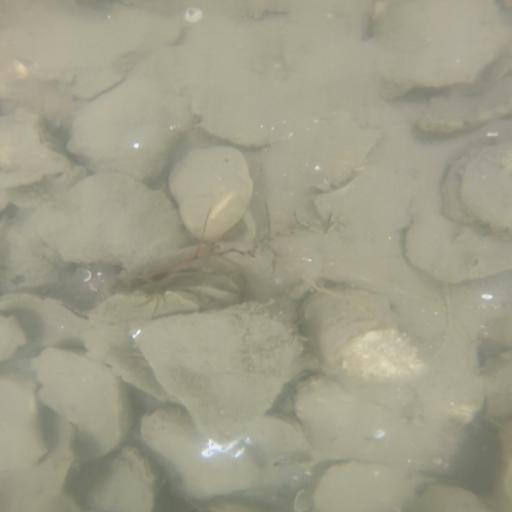Oyster-Closed: (124, 299, 311, 446), (139, 407, 323, 501), (32, 173, 191, 270), (364, 1, 507, 99), (293, 279, 428, 380), (30, 349, 140, 464), (70, 76, 173, 180), (404, 198, 512, 284), (169, 144, 256, 244), (312, 461, 424, 512), (1, 112, 69, 191), (460, 146, 512, 235)
Oyster-Open: (86, 450, 158, 512)
